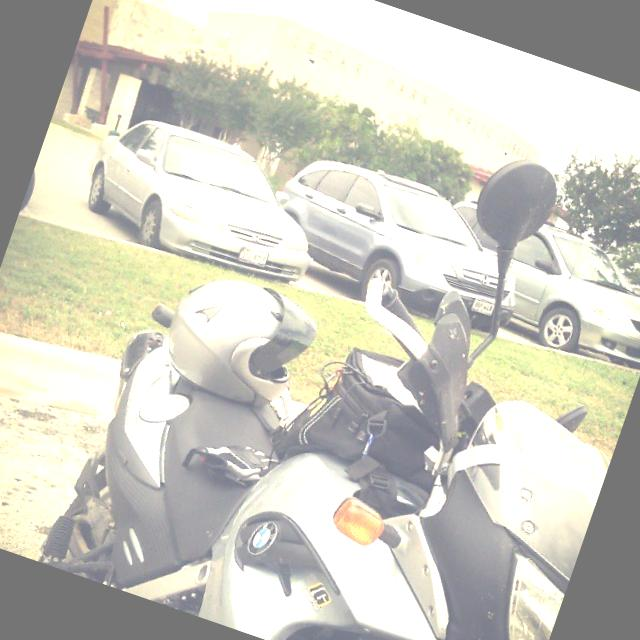Vehicle: (34, 190, 640, 640), (252, 138, 544, 344), (66, 100, 338, 302), (419, 192, 640, 380), (18, 134, 51, 216), (623, 282, 640, 321)
